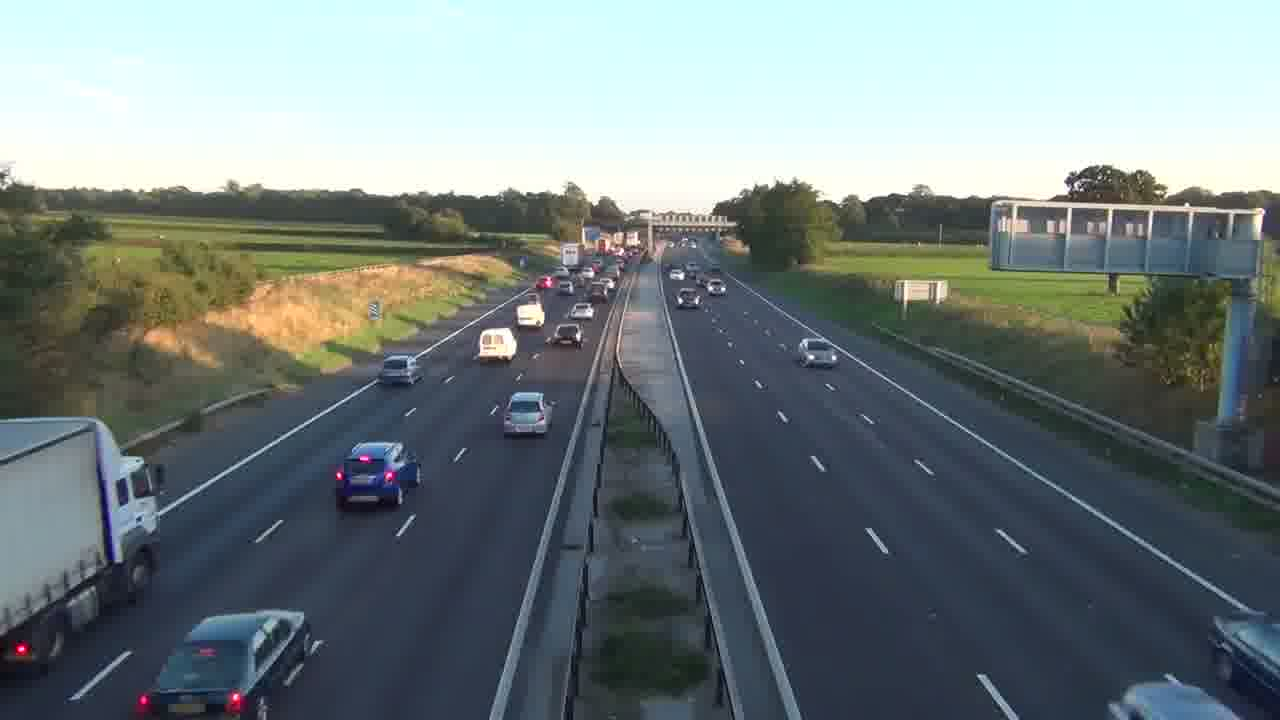car: (333, 441, 406, 510), (504, 391, 550, 438), (380, 353, 424, 386), (798, 338, 838, 369), (551, 322, 583, 348)
truck: (0, 415, 163, 674), (133, 608, 313, 718), (477, 327, 518, 365)
